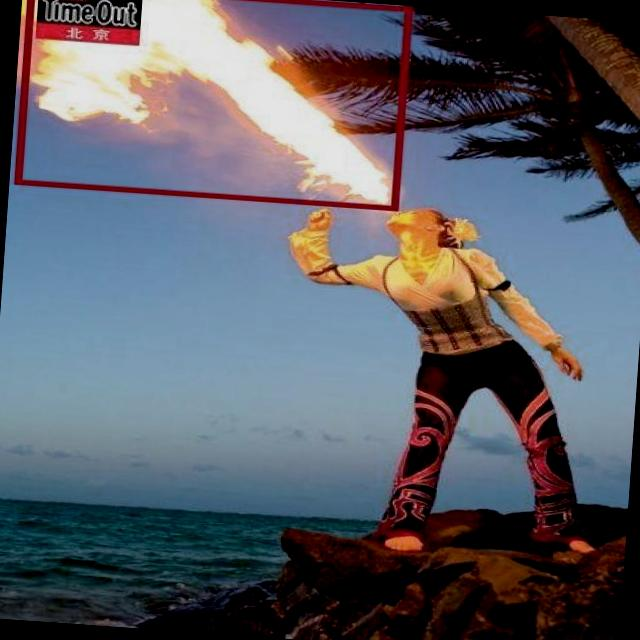fire: (12, 0, 410, 209)
